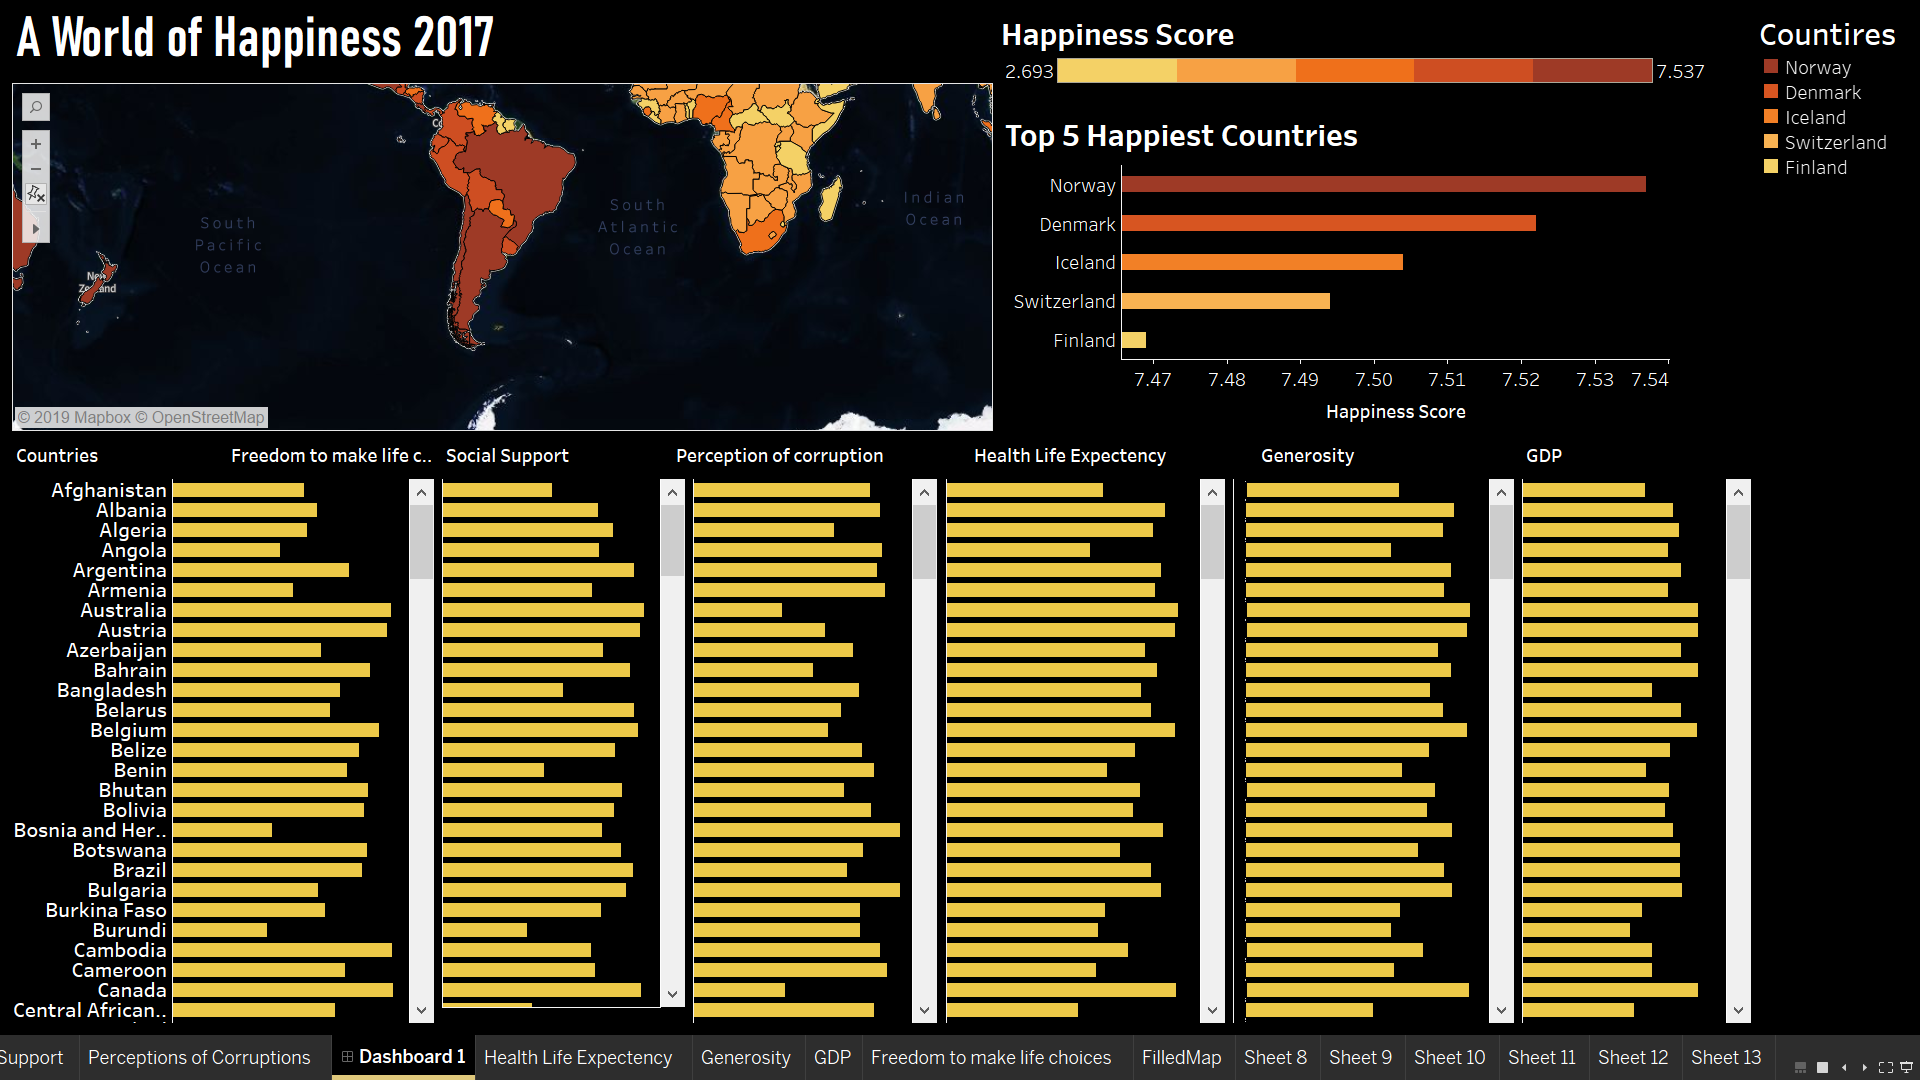

The page's visual inventory and layout, read from the dashboard file:
{"tool":"tableau","page":{"name":"Dashboard 1","canvas":[1000,1000],"units":"permille","ordinal":0},"visuals":[{"type":"worksheet","title":"FilledMap","mark":"Multipolygon","box":[5,9.6,504.8,410.7]},{"type":"legend","title":"FilledMap","param":"[federated.1lxjxjb19fba1u1bdyvnc0wr5vae].[none:happiness_score:qk]","box":[509.8,9.6,366.1,93.7]},{"type":"blank","box":[875.9,9.6,21.2,410.7]},{"type":"legend","title":"Happiest Countries","param":"[federated.1lxjxjb19fba1u1bdyvnc0wr5vae].[none:wp5_country:nk]","box":[897.1,9.6,97.9,210.3]},{"type":"worksheet","title":"Happiest Countries","mark":"Bar","rows":["wp5_country"],"cols":["happiness_score"],"box":[509.8,103.3,346.2,317]},{"type":"blank","box":[856,103.3,19.9,317]},{"type":"text","box":[5,420.3,109.8,38.4]},{"type":"text","box":[114.8,420.3,109.9,38.4]},{"type":"text","box":[224.7,420.3,117.2,38.4]},{"type":"text","box":[341.9,420.3,152.3,38.4]},{"type":"text","box":[494.1,420.3,146.4,38.4]},{"type":"text","box":[640.5,420.3,135.3,38.4]},{"type":"text","box":[775.8,420.3,100.2,38.4]},{"type":"blank","box":[876,420.3,21.2,38.4]},{"type":"worksheet","title":"Freedom to make life choices","mark":"Automatic","rows":["wp5_country"],"cols":["freedom_to_make_life_choices"],"box":[5,458.8,219.7,531.6]},{"type":"worksheet","title":"Social Support","mark":"Bar","rows":["wp5_country"],"cols":["social_support"],"box":[224.7,458.8,128.3,531.6]},{"type":"worksheet","title":"Perceptions of Corruptions","mark":"Bar","rows":["wp5_country"],"cols":["perceptions_of_corruption"],"box":[353,458.8,128.9,531.6]},{"type":"worksheet","title":"Health Life Expectency","mark":"Bar","rows":["wp5_country"],"cols":["healthy_life_expectancy_at_birth"],"box":[481.8,458.8,146.4,531.6]},{"type":"worksheet","title":"Generosity","mark":"Automatic","rows":["wp5_country"],"box":[628.2,458.8,147.6,531.6]},{"type":"worksheet","title":"GDP","mark":"Automatic","rows":["wp5_country"],"cols":["log_gdp_per_capita"],"box":[775.8,458.8,121.3,531.6]}]}

Visuals, with their boxes on the dashboard's canvas, which has no fixed pixel size, in thousandths of its width and height (x1, y1, x2, y2). These are canvas units, not pixel positions in the 1920x1080 screenshot, which may show the page scaled, cropped or inside an application window:
"FilledMap" worksheet (Multipolygon marks): 5/10/510/420
"FilledMap" legend: 510/10/876/103
blank: 876/10/897/420
"Happiest Countries" legend: 897/10/995/220
"Happiest Countries" worksheet (Bar marks): 510/103/856/420
blank: 856/103/876/420
text: 5/420/115/459
text: 115/420/225/459
text: 225/420/342/459
text: 342/420/494/459
text: 494/420/640/459
text: 640/420/776/459
text: 776/420/876/459
blank: 876/420/897/459
"Freedom to make life choices" worksheet: 5/459/225/990
"Social Support" worksheet (Bar marks): 225/459/353/990
"Perceptions of Corruptions" worksheet (Bar marks): 353/459/482/990
"Health Life Expectency" worksheet (Bar marks): 482/459/628/990
"Generosity" worksheet: 628/459/776/990
"GDP" worksheet: 776/459/897/990
